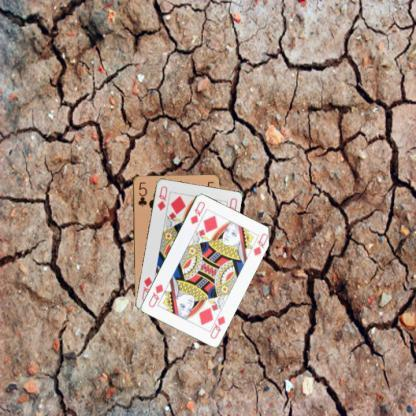5c: (136, 180, 148, 208)
Qd: (206, 309, 226, 340), (188, 198, 206, 226), (154, 183, 168, 212)
